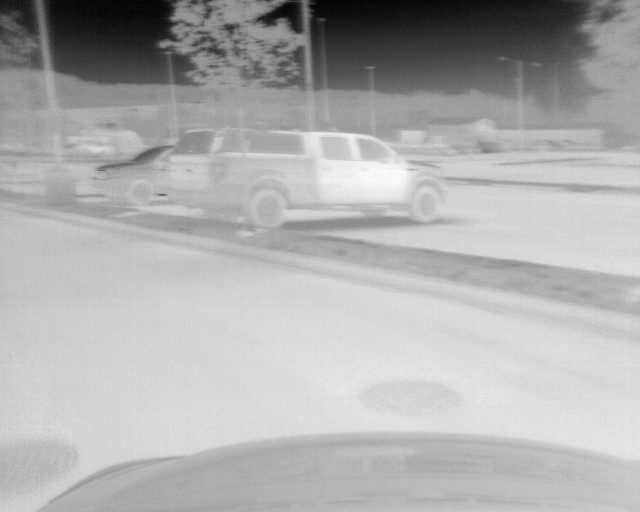car: (167, 129, 445, 228), (87, 144, 168, 204)
